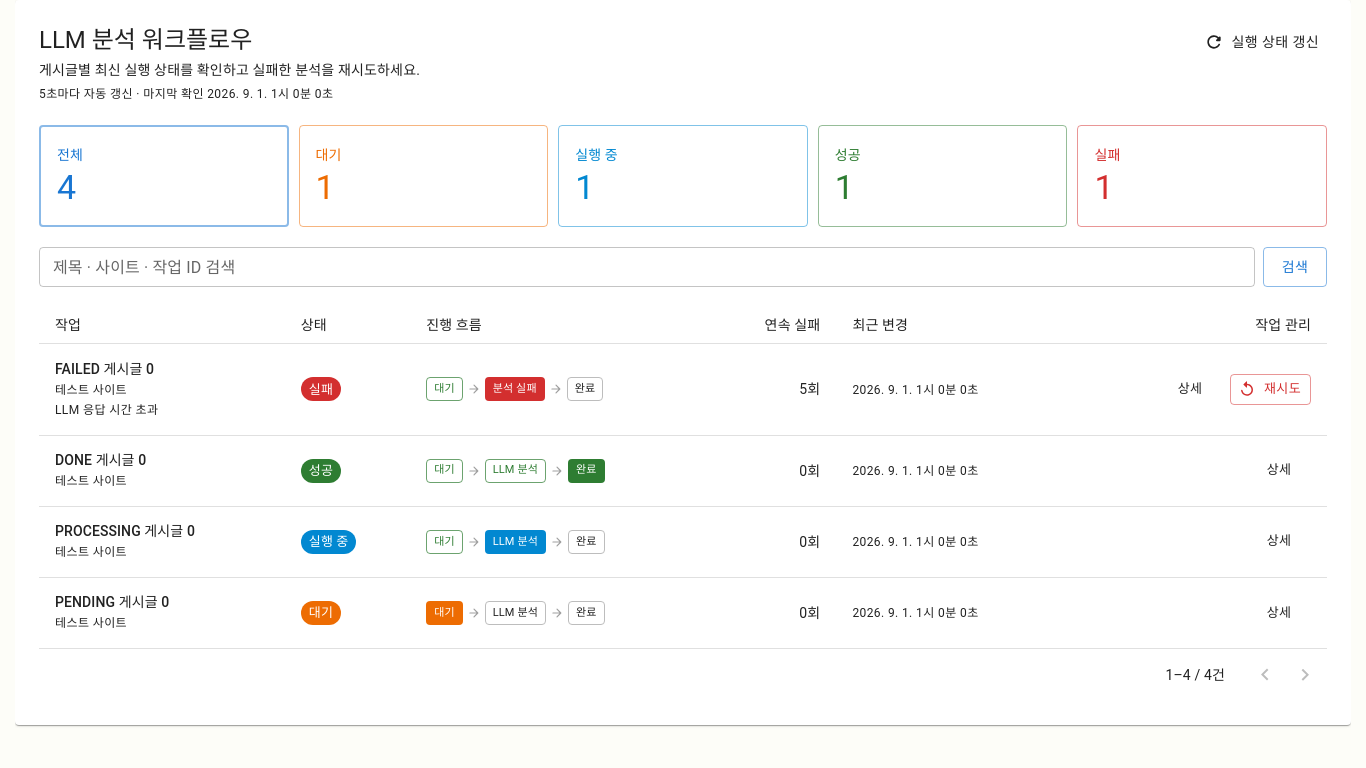
Test: shows workflow states and error details, with retry only on failed work
Expected: the heading "failed 게시글 0" is shown, [55,359,154,381]
Expected: the number of buttons named "게시글 0 재시도" is 1, [1230,374,1311,405]
Click the button with aria-label "failed 게시글 0 상세 보기" at coordinates (1190, 390), box [1158,374,1222,405]
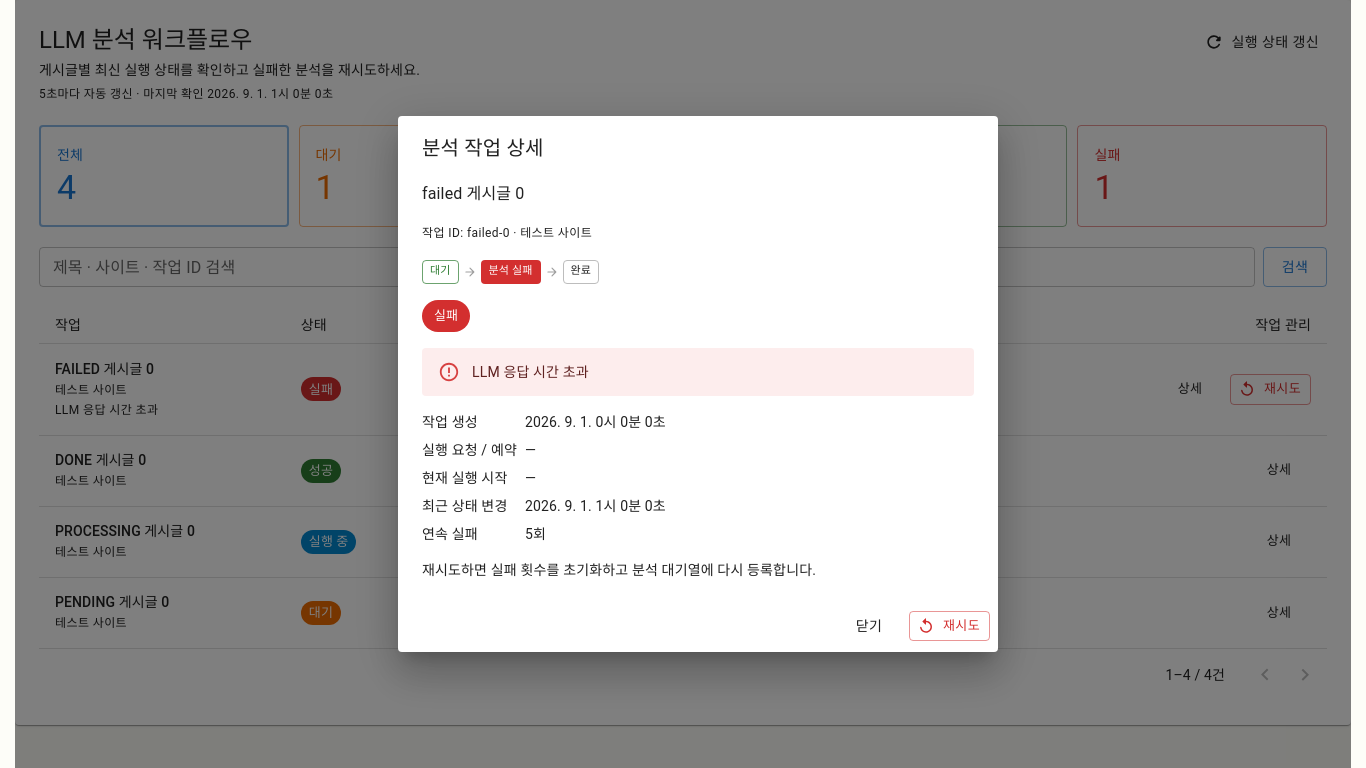
Result: the text "LLM 응답 시간 초과" is shown at [472,364,589,380]
Result: the text "5회" is shown at [525,526,546,542]
